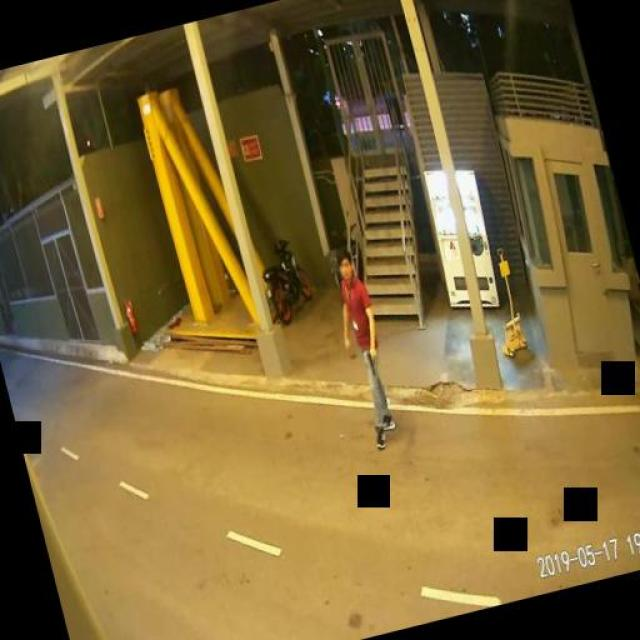gun: (364, 347, 380, 375)
